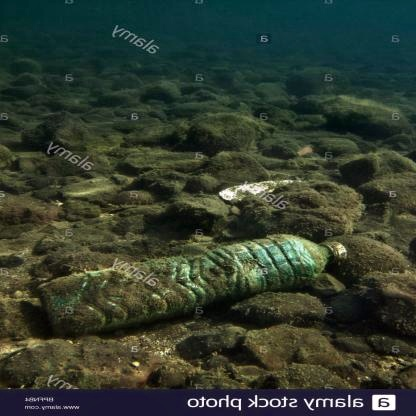misc: (214, 169, 333, 201)
pbottle: (12, 231, 357, 339)
